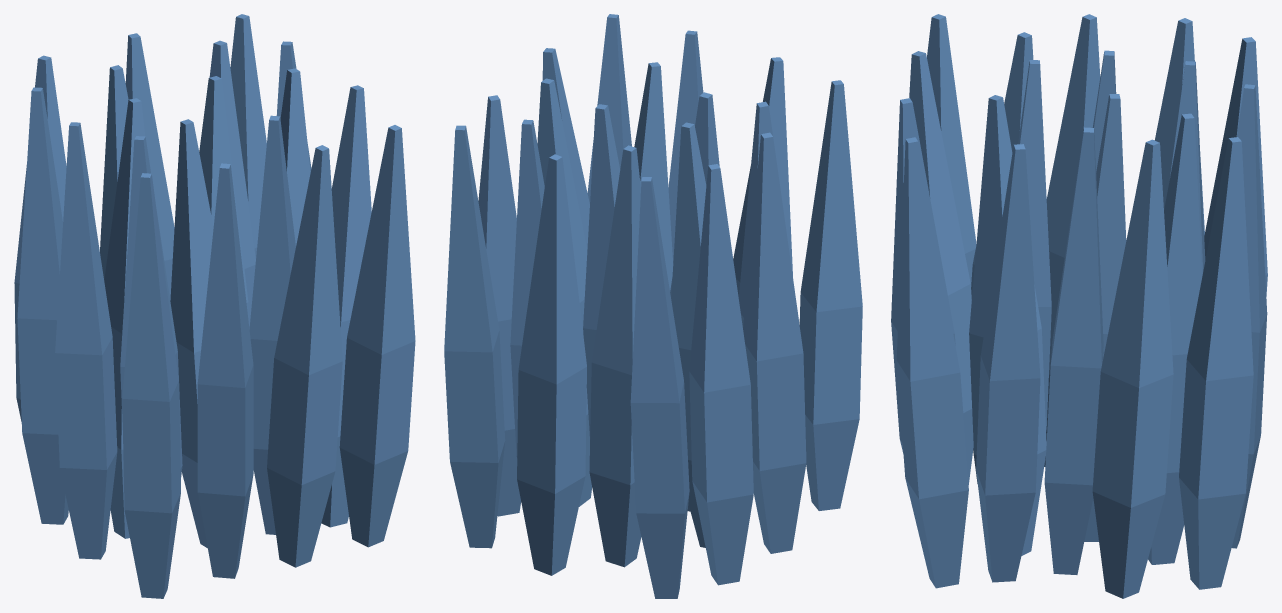
The model's file is crystal2.glb.
The picture shows the model from 3 angles, left to right: view 1: azimuth 30°, elevation 25°; view 2: azimuth 150°, elevation 25°; view 3: azimuth 270°, elevation 25°; orthographic projection. The views are drawn at different scales.
Visible parts, largest first — view 1: Cube.017, Cube.018, Cube.016, Cube.012, Cube.013, Cube.002, Cube.005, Cube.006, Cube.014, Cube.001, Cube.019, Cube.009 (+7 smaller); view 2: Cube.009, Cube.012, Cube.002, Cube.016, Cube.019, Cube.011, Cube.003, Cube.015, Cube.001, Cube.004, Cube.008, Cube.007 (+7 smaller); view 3: Cube.015, Cube.019, Cube.018, Cube.014, Cube.007, Cube.008, Cube.013, Cube.006, Cube.016, Cube.009, Cube.004, Cube.005 (+7 smaller).
Part boxes in pixels (x1=…): Cube.017: x1=267, y1=145, x2=342, y2=567; Cube.018: x1=339, y1=125, x2=415, y2=547; Cube.016: x1=55, y1=122, x2=117, y2=559; Cube.012: x1=122, y1=173, x2=180, y2=598; Cube.013: x1=197, y1=163, x2=253, y2=578; Cube.002: x1=17, y1=87, x2=68, y2=524; Cube.005: x1=170, y1=119, x2=213, y2=547; Cube.006: x1=249, y1=115, x2=295, y2=534; Cube.014: x1=321, y1=85, x2=371, y2=527; Cube.001: x1=104, y1=98, x2=145, y2=538; Cube.019: x1=230, y1=14, x2=266, y2=258; Cube.009: x1=125, y1=33, x2=174, y2=299; Cube.009: x1=517, y1=154, x2=586, y2=575; Cube.012: x1=799, y1=80, x2=862, y2=510; Cube.002: x1=689, y1=164, x2=753, y2=585; Cube.016: x1=743, y1=132, x2=806, y2=553; Cube.019: x1=444, y1=125, x2=505, y2=548; Cube.011: x1=630, y1=177, x2=689, y2=598; Cube.003: x1=589, y1=145, x2=641, y2=567; Cube.015: x1=478, y1=95, x2=521, y2=516; Cube.001: x1=671, y1=122, x2=706, y2=547; Cube.004: x1=583, y1=104, x2=620, y2=439; Cube.008: x1=510, y1=119, x2=544, y2=457; Cube.007: x1=537, y1=78, x2=592, y2=506; Cube.015: x1=1092, y1=139, x2=1173, y2=598; Cube.019: x1=1179, y1=137, x2=1253, y2=589; Cube.018: x1=896, y1=137, x2=968, y2=588; Cube.014: x1=976, y1=144, x2=1040, y2=582; Cube.007: x1=1044, y1=127, x2=1103, y2=574; Cube.008: x1=1148, y1=113, x2=1202, y2=564; Cube.013: x1=909, y1=51, x2=973, y2=484; Cube.006: x1=969, y1=95, x2=1046, y2=555; Cube.016: x1=1044, y1=14, x2=1100, y2=466; Cube.009: x1=1231, y1=84, x2=1267, y2=548; Cube.004: x1=1084, y1=94, x2=1126, y2=541; Cube.005: x1=1018, y1=60, x2=1051, y2=431.
Bounding box in the file's own units: 1.27 × 1.69 × 1.29.
Materials: 19 (19 with a texture image).
